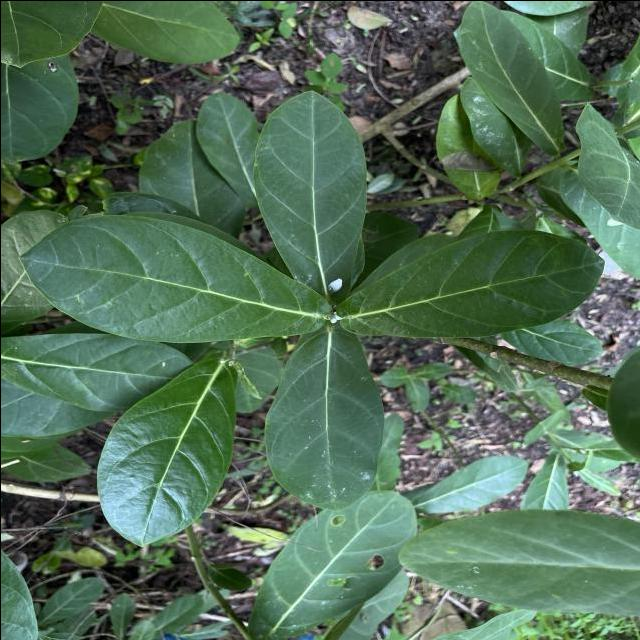Calotropis gigantea: (15, 212, 333, 343), (327, 227, 605, 340), (95, 357, 238, 548), (245, 488, 417, 640), (250, 87, 368, 302), (260, 330, 386, 512), (0, 331, 194, 413)
